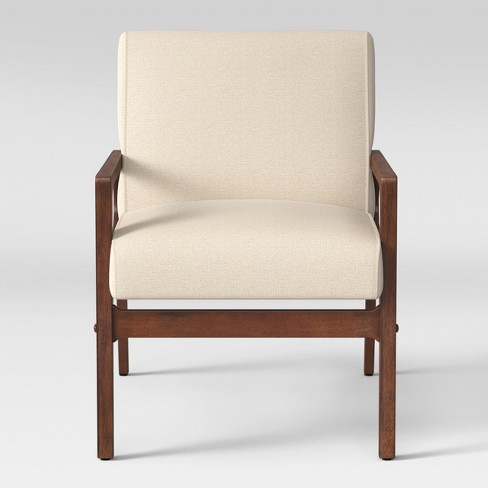chairs: (91, 15, 404, 468)
